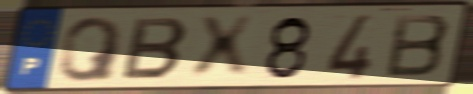4: (325, 11, 376, 82)
8: (265, 14, 312, 80)
B: (382, 12, 454, 80), (118, 16, 192, 82)
Q: (56, 15, 126, 85)
X: (189, 13, 258, 83)
